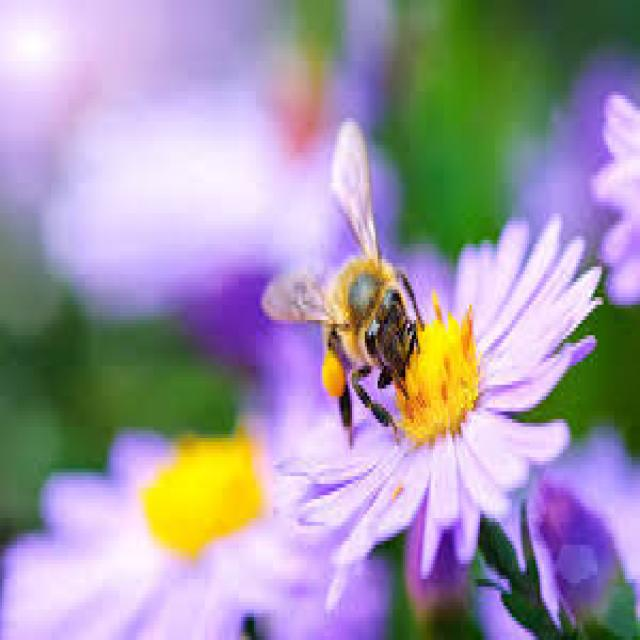Bees: (259, 118, 427, 452)
